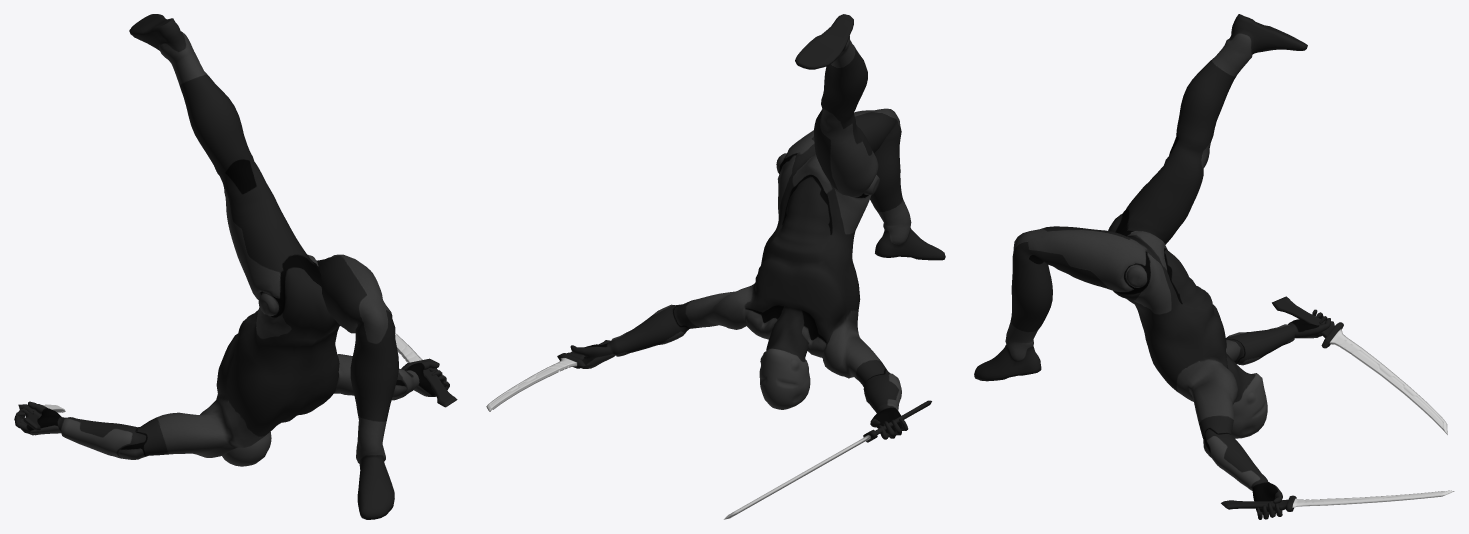
3 views of the same model, side by side, from view 1: azimuth 30°, elevation 25°; view 2: azimuth 150°, elevation 25°; view 3: azimuth 270°, elevation 25° (orthographic). The views are drawn at different scales.
Parts seen in each view (by area): view 1: Cyborg_Ninja_Killer, Sword_l; view 2: Cyborg_Ninja_Killer, Sword_l, Sword_l001; view 3: Cyborg_Ninja_Killer, Sword_l001, Sword_l.
Part boxes in pixels (left/top/right/bottom): Cyborg_Ninja_Killer: left=14, top=14, right=449, bottom=519; Sword_l: left=395, top=333, right=457, bottom=407; Cyborg_Ninja_Killer: left=570, top=14, right=945, bottom=439; Sword_l: left=486, top=340, right=610, bottom=411; Sword_l001: left=723, top=400, right=931, bottom=519; Cyborg_Ninja_Killer: left=974, top=14, right=1330, bottom=519; Sword_l001: left=1272, top=296, right=1447, bottom=434; Sword_l: left=1221, top=490, right=1454, bottom=511.
Bounding box in the file's own units: 156 × 173 × 182.
2 materials, 2 textured.
